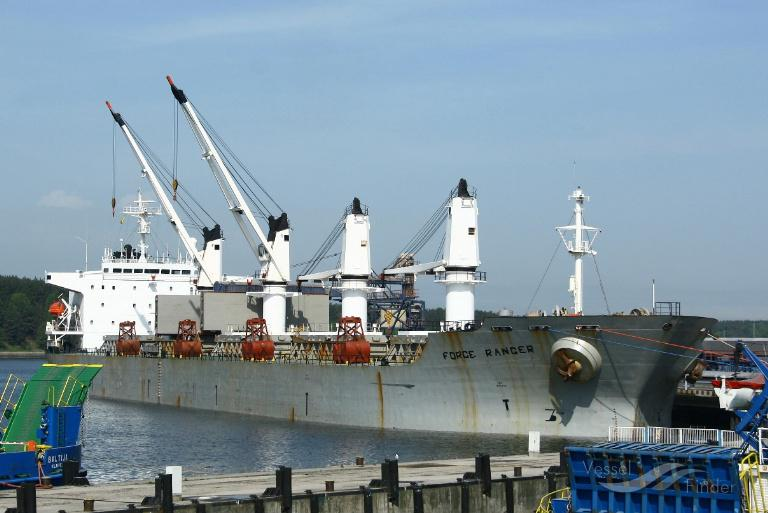OCR: (437, 344, 542, 370)
